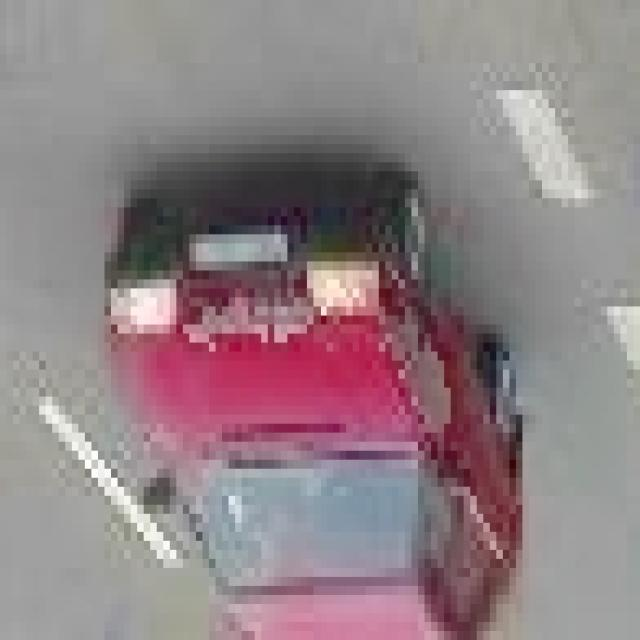maroon: (108, 167, 532, 635)
